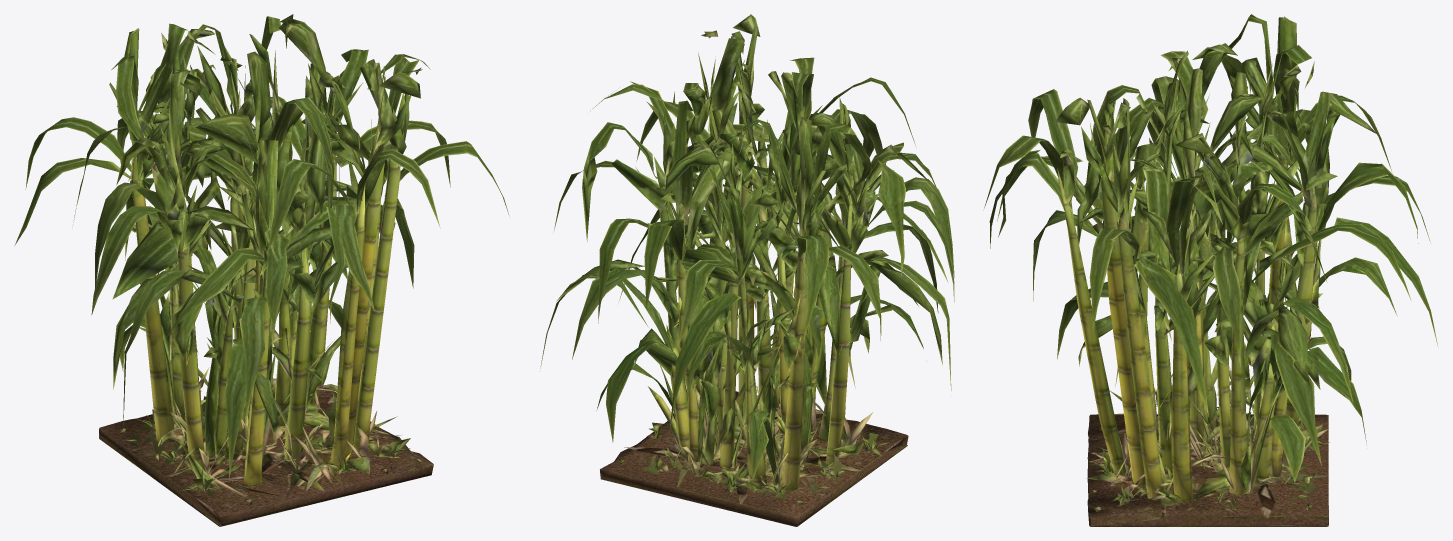
The model's file is cane-tile.glb.
3 renders of one model, left to right at view 1: azimuth 30°, elevation 25°; view 2: azimuth 150°, elevation 25°; view 3: azimuth 270°, elevation 25°, orthographic. The views are drawn at different scales.
Size of the model in its own units: 0.8984 by 0.9185 by 0.9082.
1 material, 1 textured.
